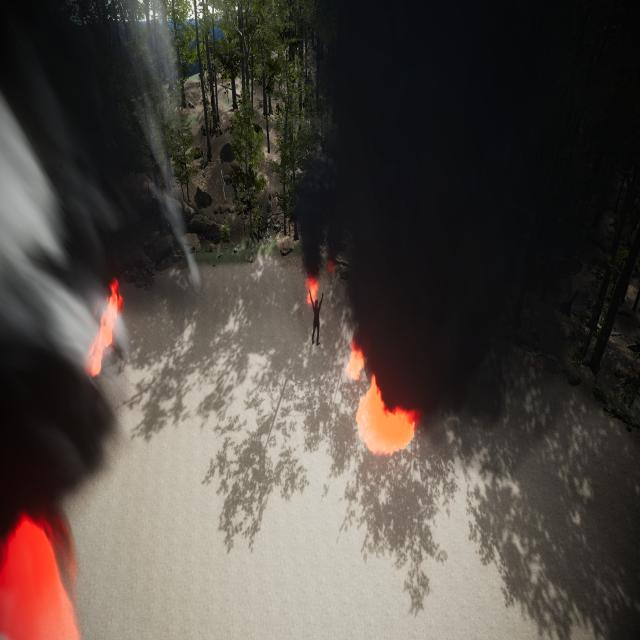Human: (306, 282, 328, 356)
